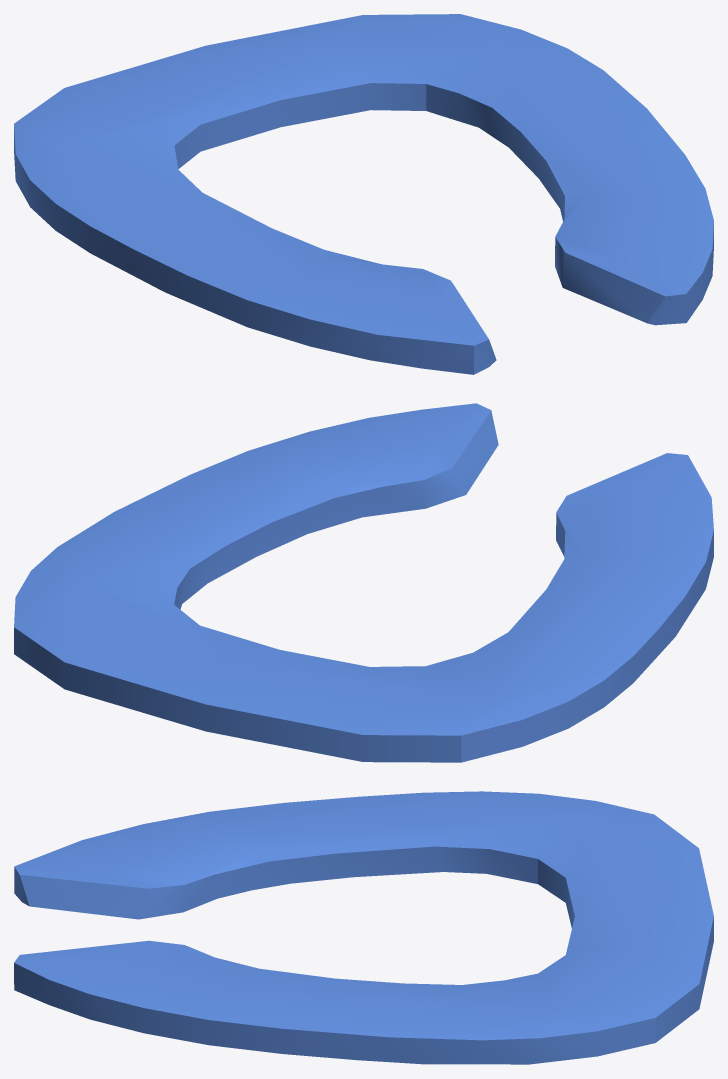
The model's file is original-11.obj.
The picture shows the model from 3 angles, top to bottom: view 1: azimuth 30°, elevation 25°; view 2: azimuth 150°, elevation 25°; view 3: azimuth 270°, elevation 25°; orthographic projection. The views are drawn at different scales.
Visible parts, largest first — view 1: mesh11/mesh11-geometry#mesh11-geometry; view 2: mesh11/mesh11-geometry#mesh11-geometry; view 3: mesh11/mesh11-geometry#mesh11-geometry.
Part boxes in pixels (x1,y1,x2,y2): mesh11/mesh11-geometry#mesh11-geometry: (14,14,713,374); mesh11/mesh11-geometry#mesh11-geometry: (14,403,713,762); mesh11/mesh11-geometry#mesh11-geometry: (14,791,713,1064).
Size of the model in its own units: 0.7182 by 0.0403 by 0.8536.
